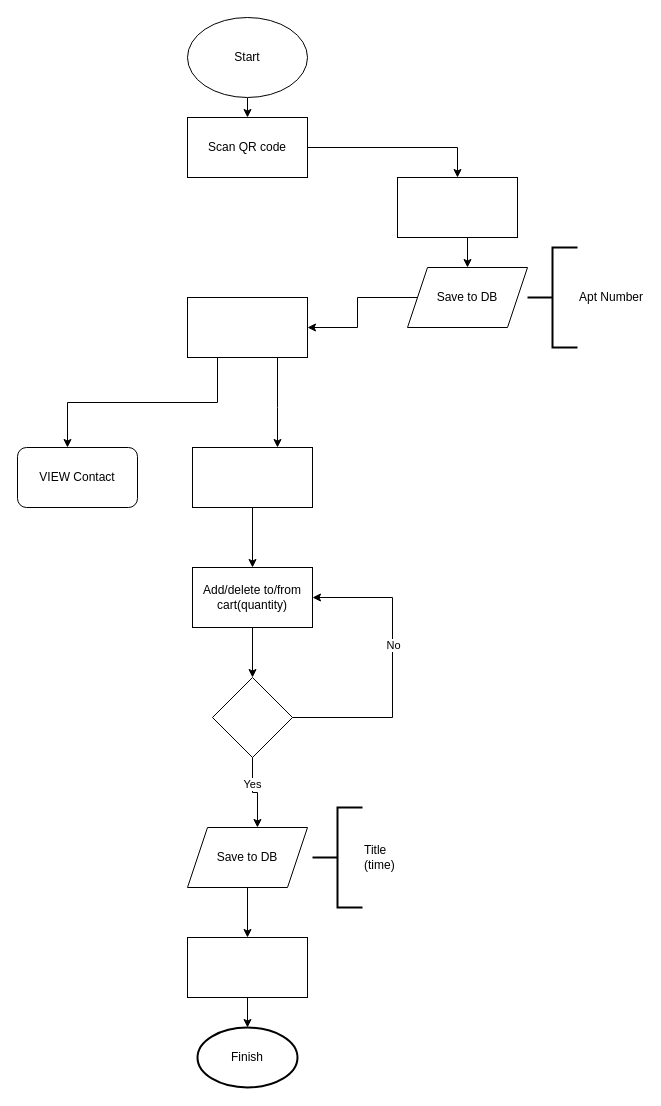
Image size: 661x1106. Some labels were removed from this diagram. The centre of each missing label's shape, as x and y in pixels:
"Confirm" goes at pixel 252 717.
"Dishes" goes at pixel 252 477.
"Load Home Page" goes at pixel 247 327.
"Place order" goes at pixel 247 967.
"Write App number" goes at pixel 457 207.
